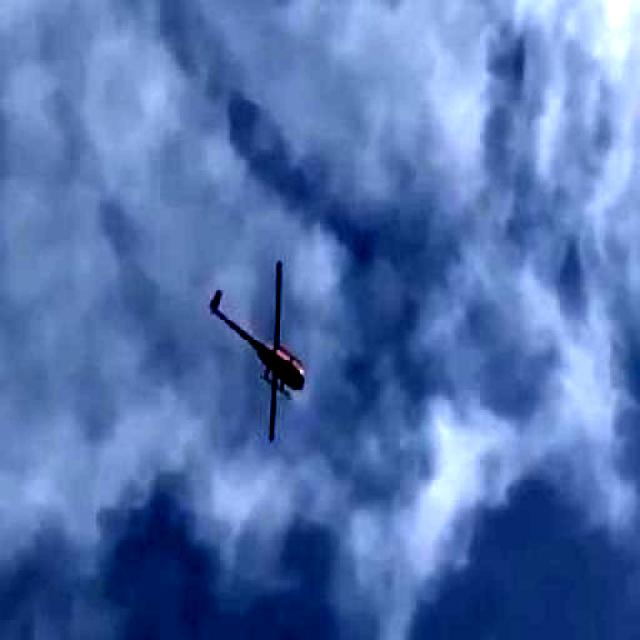drone: (161, 206, 349, 420)
